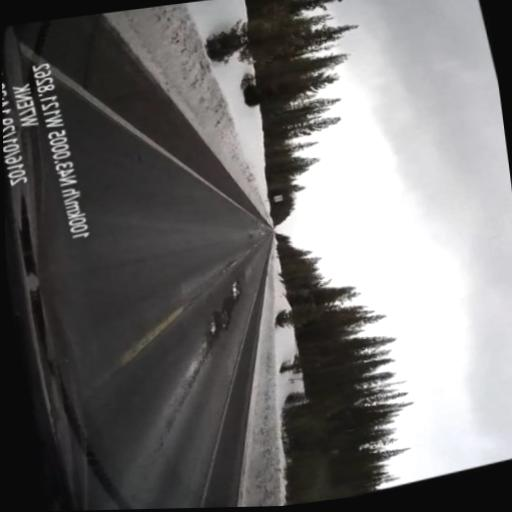pothole: (106, 164, 316, 496), (120, 140, 355, 420)
